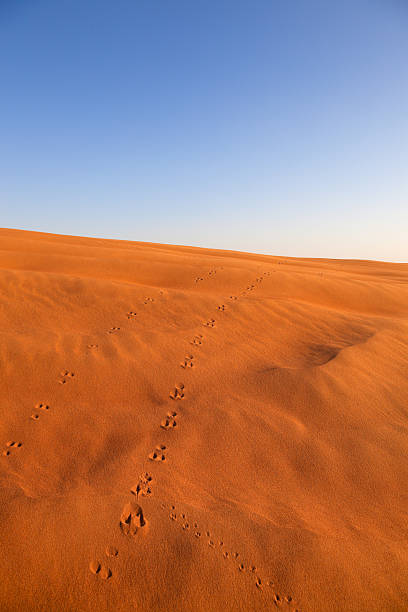animal_foot_print: (168, 505, 292, 608), (120, 502, 145, 535), (131, 472, 152, 497), (89, 560, 111, 579), (30, 402, 49, 420), (148, 444, 165, 461), (160, 411, 176, 429), (3, 441, 22, 456), (169, 383, 185, 400), (58, 370, 74, 383), (180, 354, 193, 368), (191, 334, 203, 345), (105, 545, 117, 556), (35, 402, 49, 410), (204, 318, 214, 327), (107, 326, 119, 333), (127, 311, 137, 319), (143, 297, 153, 304), (255, 577, 261, 588), (208, 269, 217, 276), (217, 304, 225, 311), (87, 344, 97, 349), (194, 277, 203, 282), (229, 295, 237, 300)
